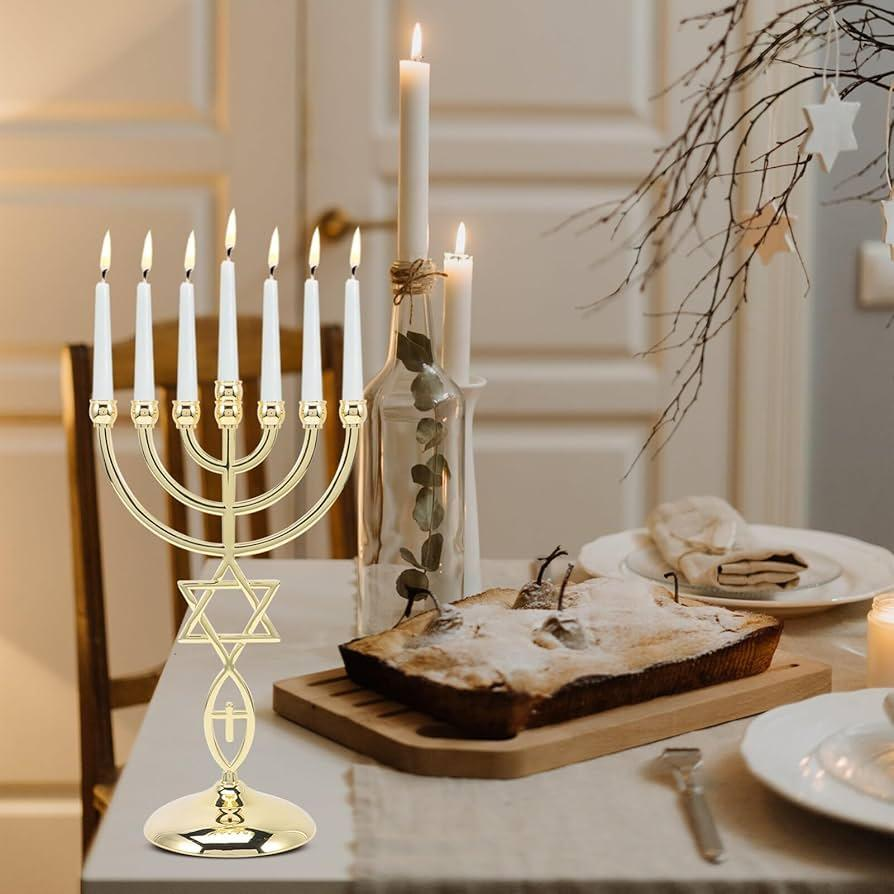controlled_fire: (81, 199, 385, 303), (443, 205, 486, 281), (389, 13, 446, 66)
